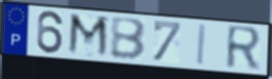6: (35, 10, 64, 55)
7: (152, 19, 183, 63)
B: (109, 17, 148, 62)
I: (195, 23, 209, 68)
M: (65, 12, 111, 60)
R: (225, 23, 265, 73)
